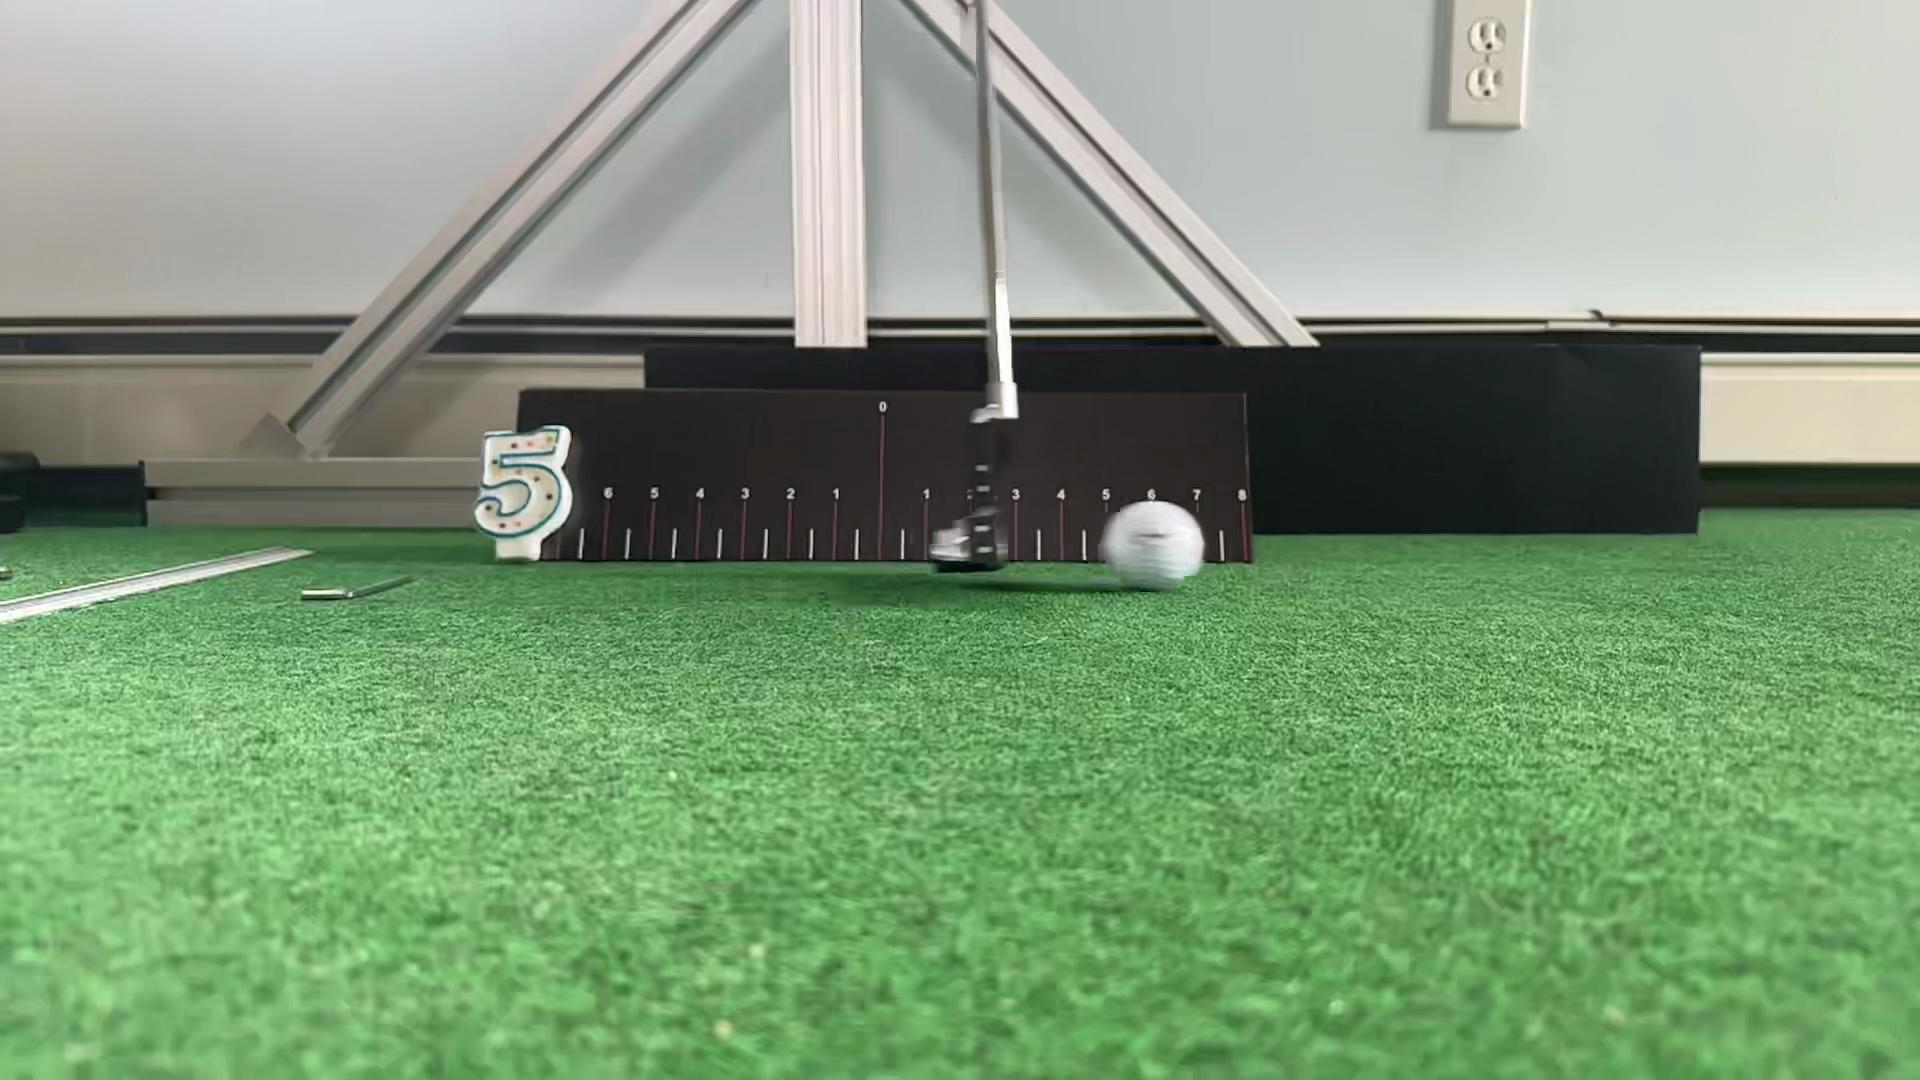golfball: (1104, 501, 1204, 590)
